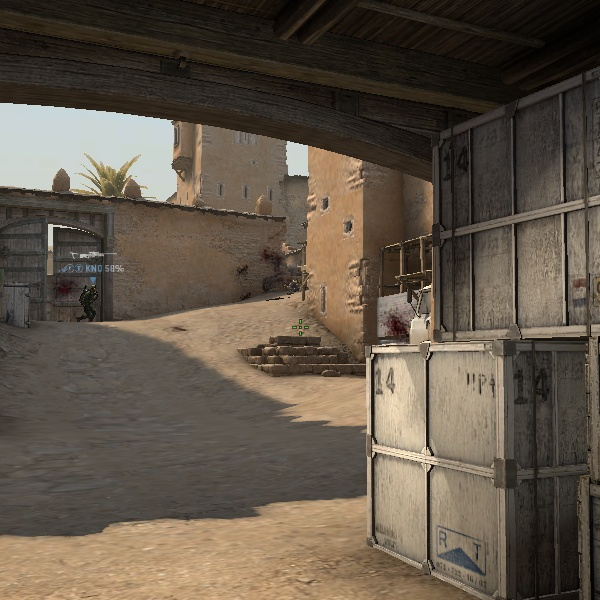ct_body: (78, 280, 101, 322)
ct_head: (89, 283, 100, 294)
